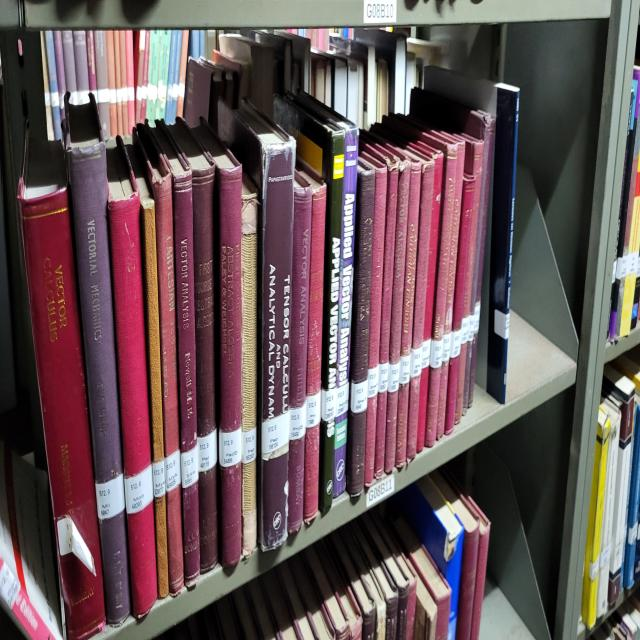Book: (18, 127, 105, 639), (219, 103, 296, 552), (65, 95, 130, 625), (274, 97, 345, 514), (106, 138, 158, 617), (134, 124, 184, 595), (171, 119, 219, 571), (194, 119, 241, 568), (159, 124, 200, 587), (139, 179, 169, 598), (486, 81, 520, 403), (332, 122, 359, 498), (425, 141, 458, 446), (462, 111, 495, 414), (346, 160, 375, 498), (360, 149, 388, 487), (288, 170, 312, 533), (436, 141, 465, 438), (406, 157, 434, 460), (374, 154, 399, 479), (395, 160, 421, 468), (385, 157, 410, 473), (445, 173, 475, 436), (304, 176, 326, 525), (418, 152, 442, 452), (241, 173, 258, 557), (462, 143, 484, 330), (455, 333, 468, 425)
Label: (58, 517, 96, 574), (124, 465, 154, 514), (95, 473, 125, 519), (261, 411, 289, 457), (219, 427, 241, 468), (198, 430, 218, 471), (181, 446, 199, 487), (165, 449, 181, 492), (289, 403, 306, 441), (350, 379, 368, 414), (241, 427, 256, 463), (152, 460, 166, 498), (306, 392, 321, 427), (321, 387, 336, 422), (336, 381, 349, 417), (430, 338, 444, 368), (410, 346, 422, 379), (368, 365, 379, 398), (399, 354, 411, 384), (388, 363, 400, 392), (421, 338, 431, 368), (450, 330, 461, 357), (379, 363, 389, 392), (442, 333, 451, 363), (461, 317, 469, 344), (468, 314, 475, 341), (474, 303, 480, 333)
